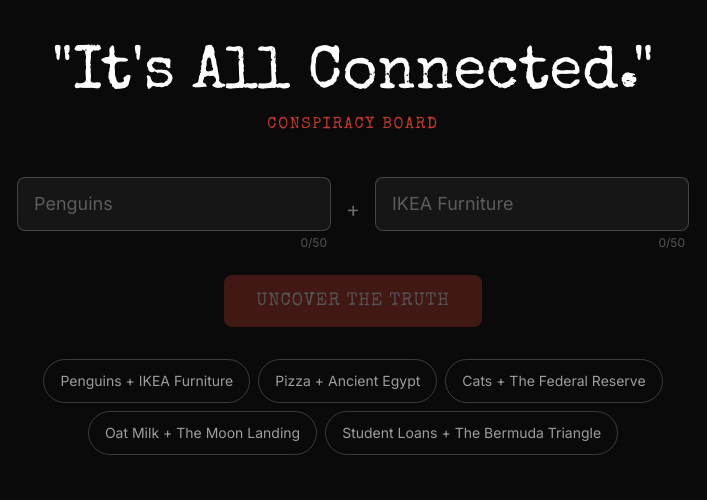
Test: App Integration — Deep Flows › clears error message when user types in input
Trigger validation error with blocked content
Type "hitler" into the field with test id "input-a". click: (174, 204)
box: left=17, top=177, right=331, bottom=231
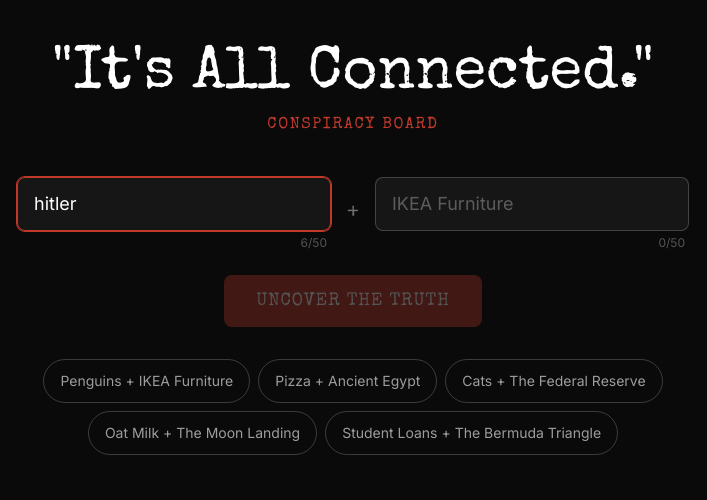
Type "Pizza" into the field with test id "input-b". click: (532, 204)
box: left=375, top=177, right=689, bottom=231
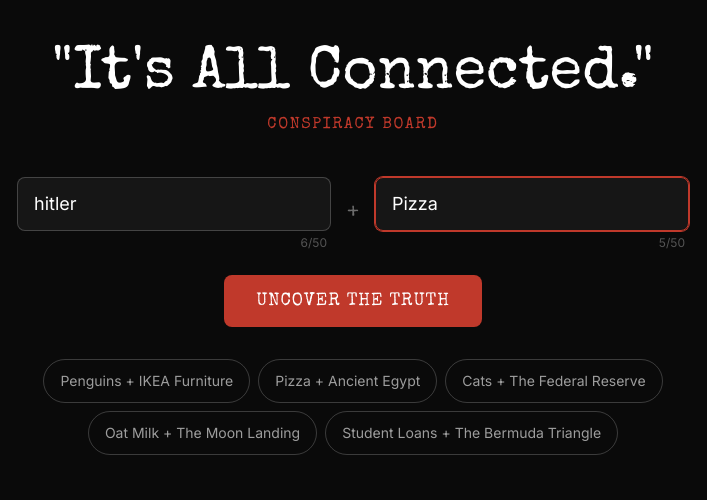
Click the button with test id "submit-button". click: (353, 301)
box: left=224, top=275, right=482, bottom=327
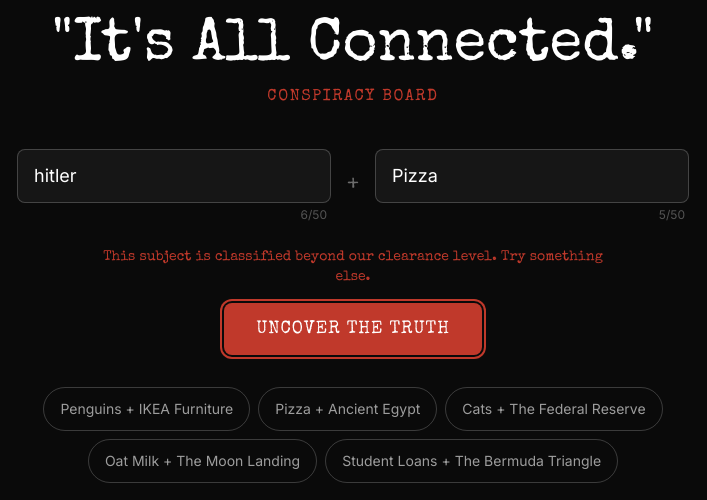
Expected: the message "This subject is classified beyond our clearance level. Try something else." is shown, left=97, top=247, right=609, bottom=287
Type in input-a to clear error
Type "x" into the field with test id "input-a". click: (174, 176)
box: left=17, top=149, right=331, bottom=203
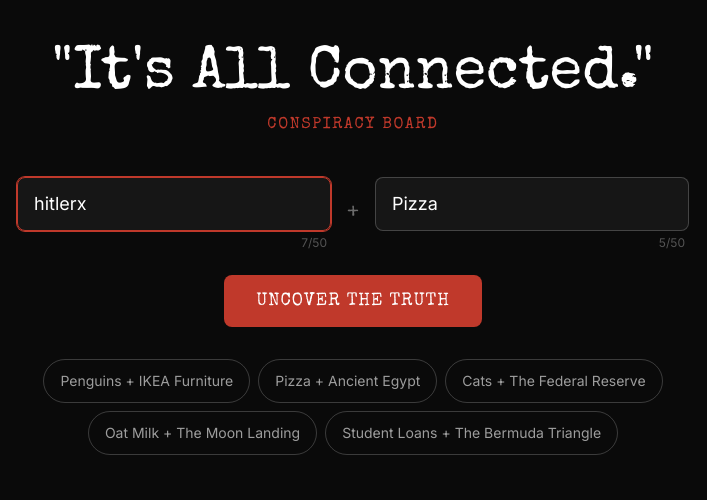
Expected: the message with test id "error-message" is gone
